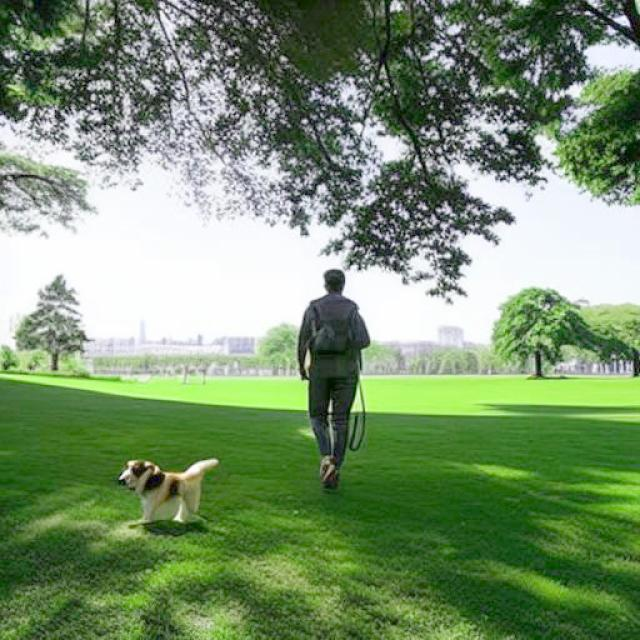Unleashed_Dog: (118, 363, 362, 524)
